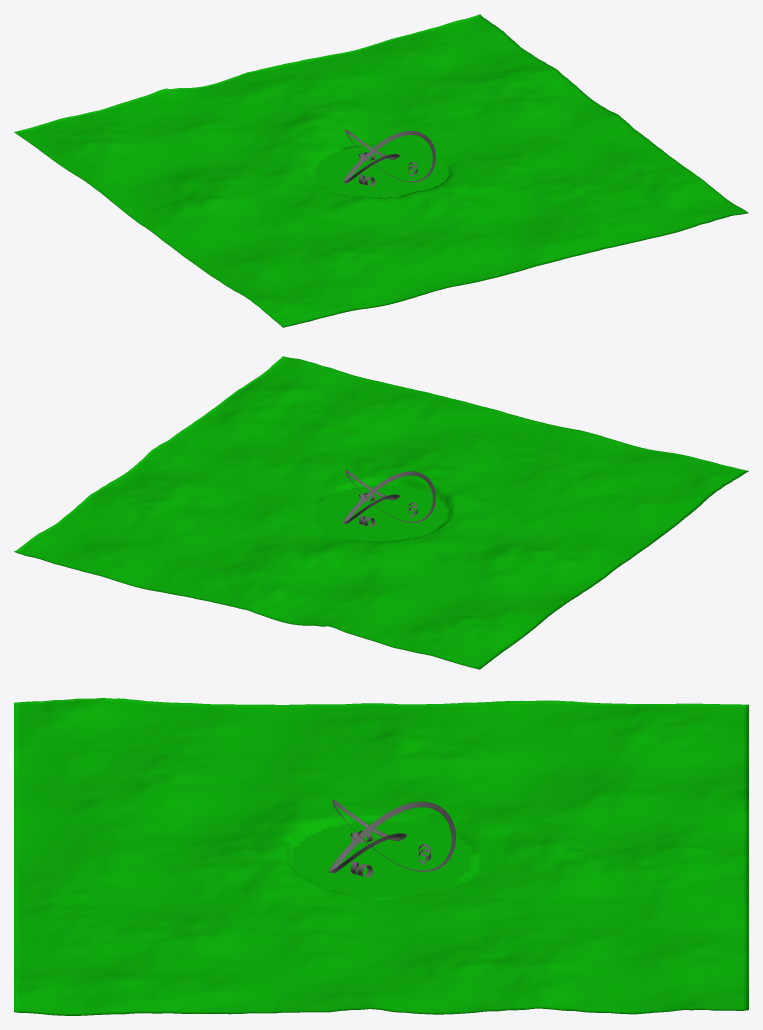
File: Cenario.glb
3 renders of one model, top to bottom at view 1: azimuth 30°, elevation 25°; view 2: azimuth 150°, elevation 25°; view 3: azimuth 270°, elevation 25°, orthographic. The views are drawn at different scales.
Visible parts, largest first — view 1: Landscape.001, Pista; view 2: Landscape.001, Pista; view 3: Landscape.001, Pista.
Boxes of the visible parts, box(x1,y1,x2,y2) form: Landscape.001: box(14, 14, 748, 327); Pista: box(342, 129, 435, 183); Landscape.001: box(14, 356, 748, 669); Pista: box(342, 470, 435, 523); Landscape.001: box(14, 698, 748, 1015); Pista: box(328, 799, 455, 873).
Size of the model in its own units: 5930 by 445 by 5930.
